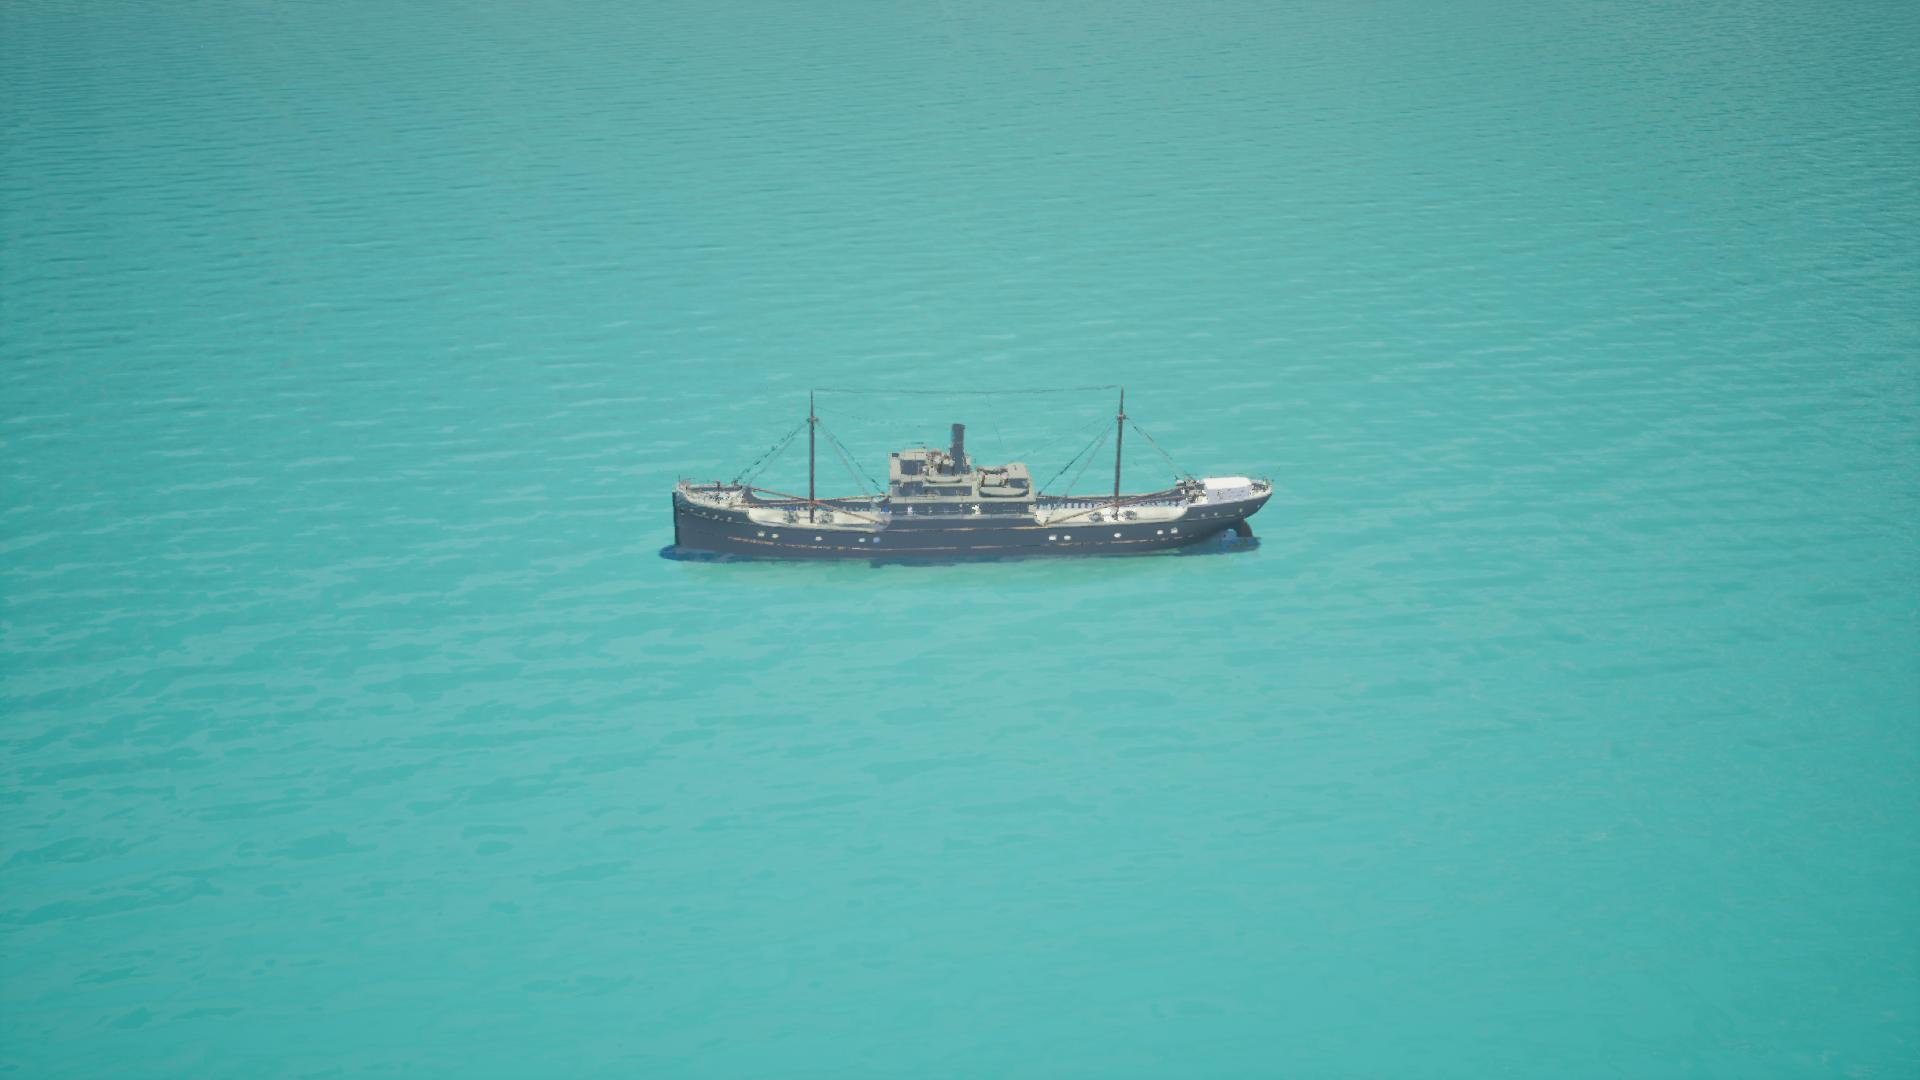Fishing Boat: (671, 386, 1269, 560)
